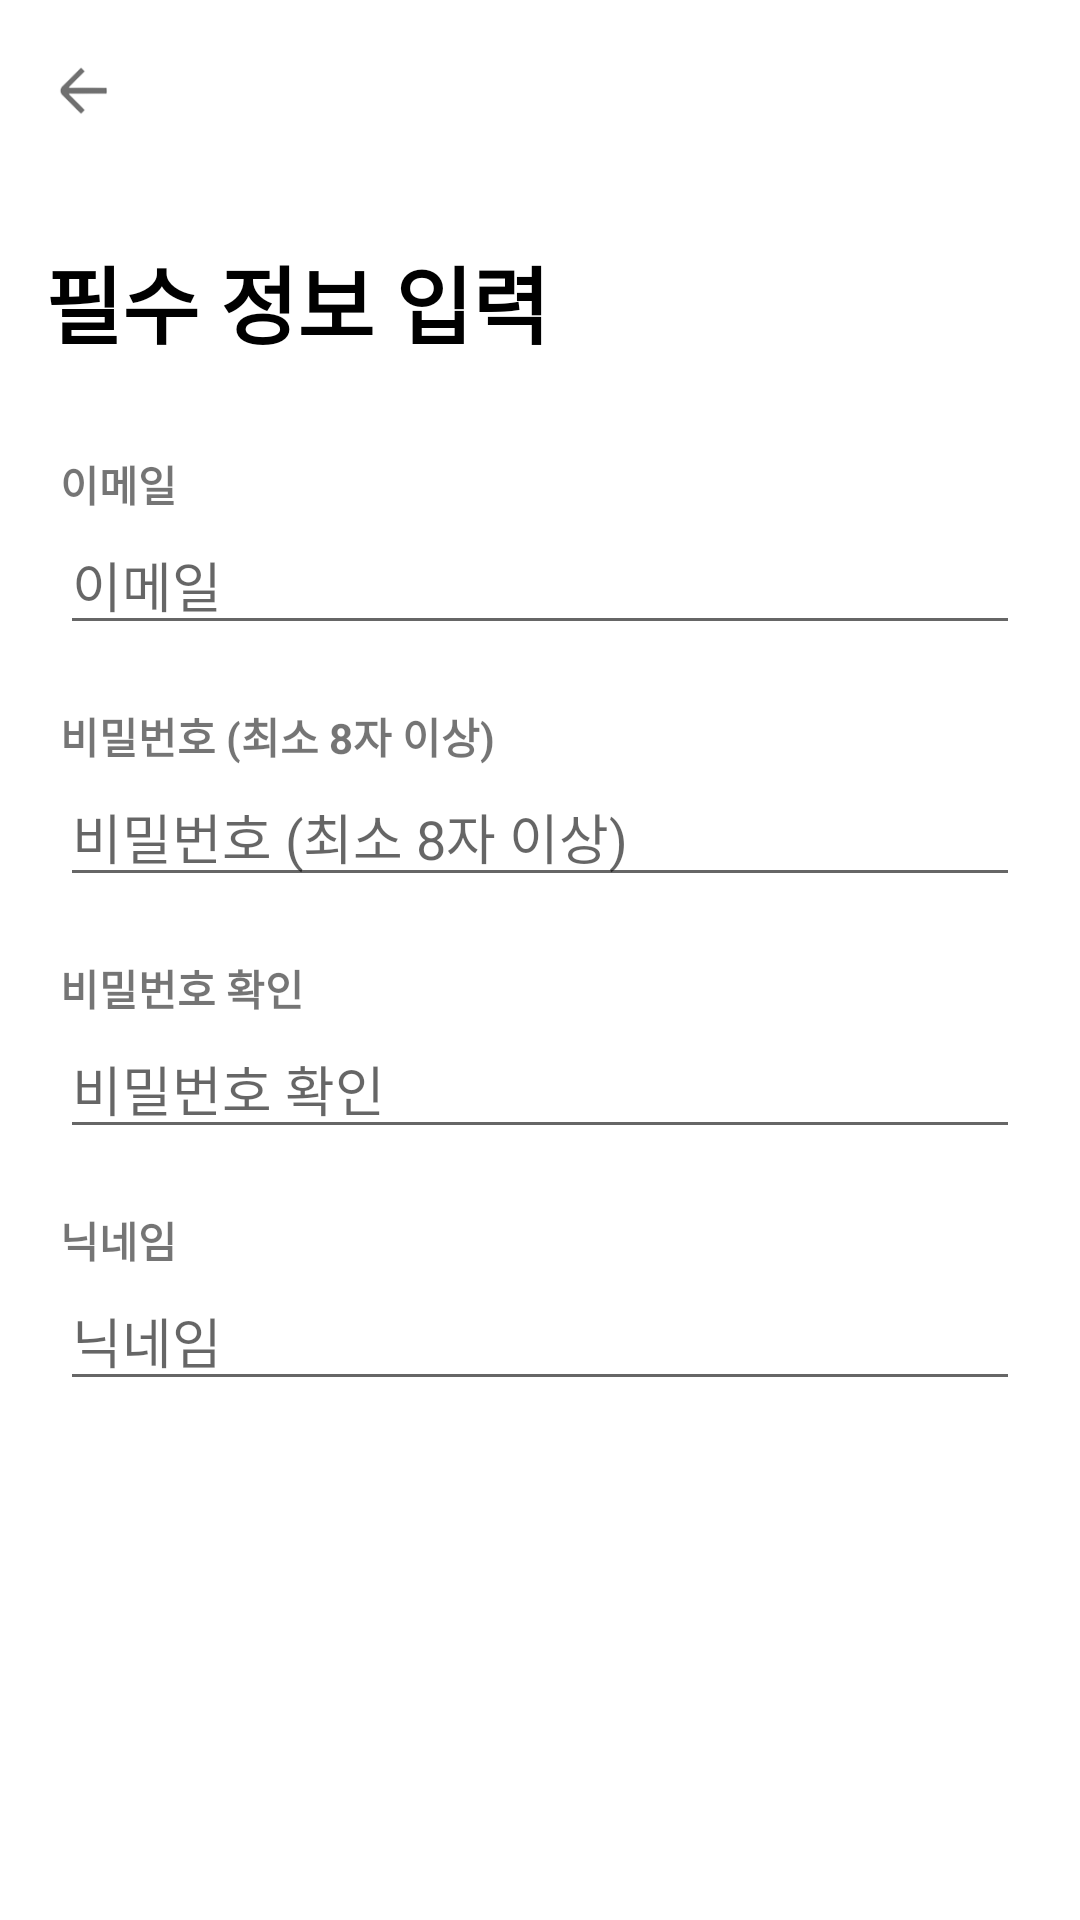

Icon click points for this 1080w x 1920h phone screenshot, format [x,y]:
back: [83,91]
